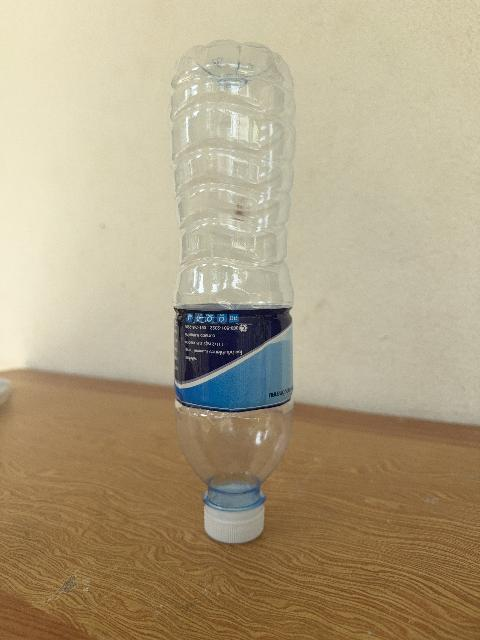bottle: (170, 41, 295, 542)
